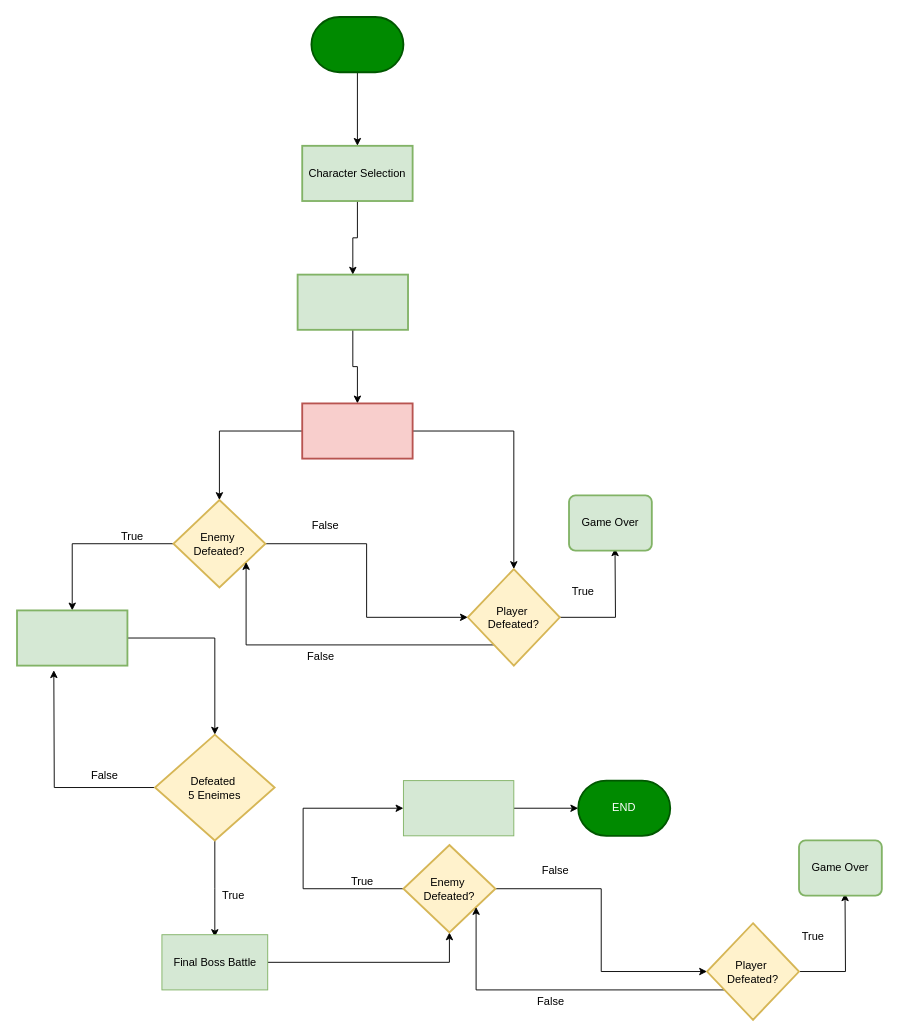
The diagram is 898 pixels wide and 1036 high, and some of its shapes have lost their labels. The shapes that lost their labels are listed below. From the top down, each one's box as (x1, y1, x2, y2) in pixels, then its label:
(310, 16, 404, 73): BEGIN
(296, 273, 408, 330): Encounter Enemy
(301, 402, 413, 459): Battle Loop
(16, 609, 128, 666): Next Battle
(402, 780, 514, 836): Victory!
